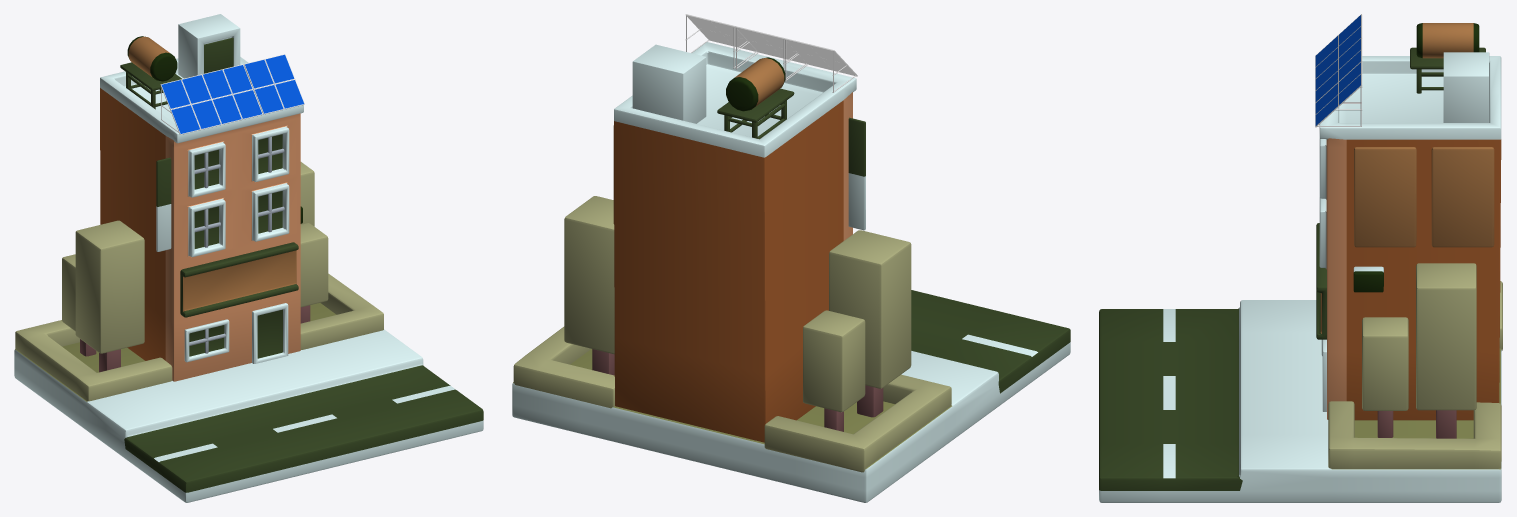
The model's file is house.glb.
The picture shows the model from 3 angles, left to right: view 1: azimuth 30°, elevation 25°; view 2: azimuth 150°, elevation 25°; view 3: azimuth 270°, elevation 25°; orthographic projection. The views are drawn at different scales.
Parts seen in each view (by area): view 1: Null.2-PBR (×3); view 2: Null.2-PBR (×2); view 3: Null.2-PBR (×3).
Part boxes in pixels (x1=…): Null.2-PBR (×3): x1=14, y1=14, x2=483, y2=502; Null.2-PBR (×2): x1=512, y1=14, x2=1070, y2=502; Null.2-PBR (×3): x1=1099, y1=14, x2=1502, y2=502.
Size of the model in its own units: 14 by 14.4 by 14.04.
3 materials, 1 textured.
